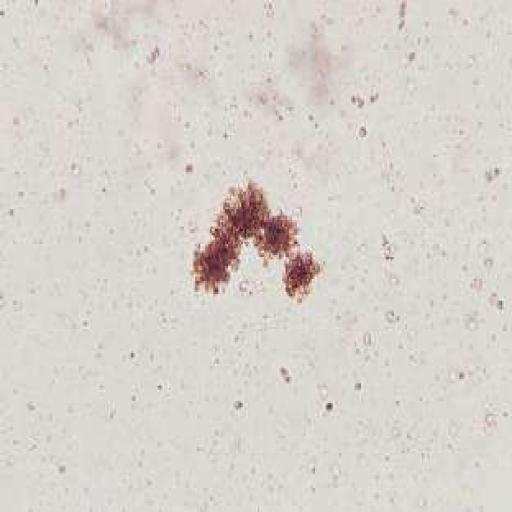BFU-E: (192, 181, 317, 296)
